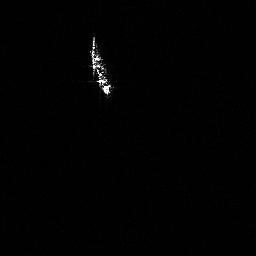ship: (85, 31, 116, 97)
